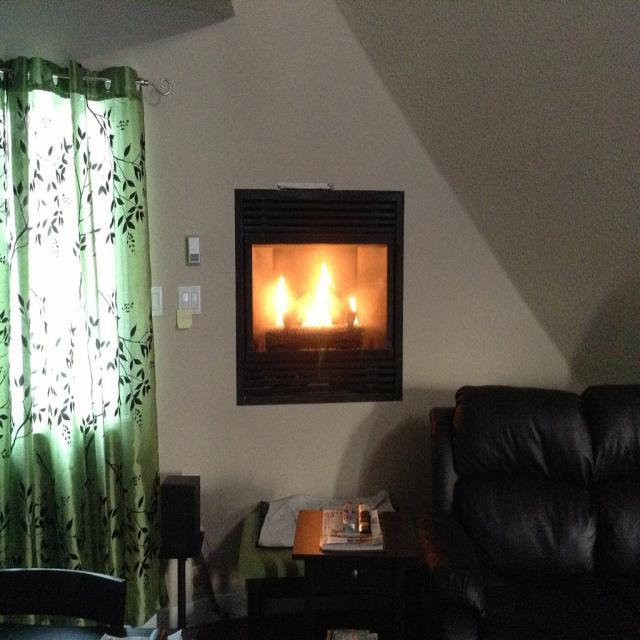Fire: (262, 276, 358, 338)
